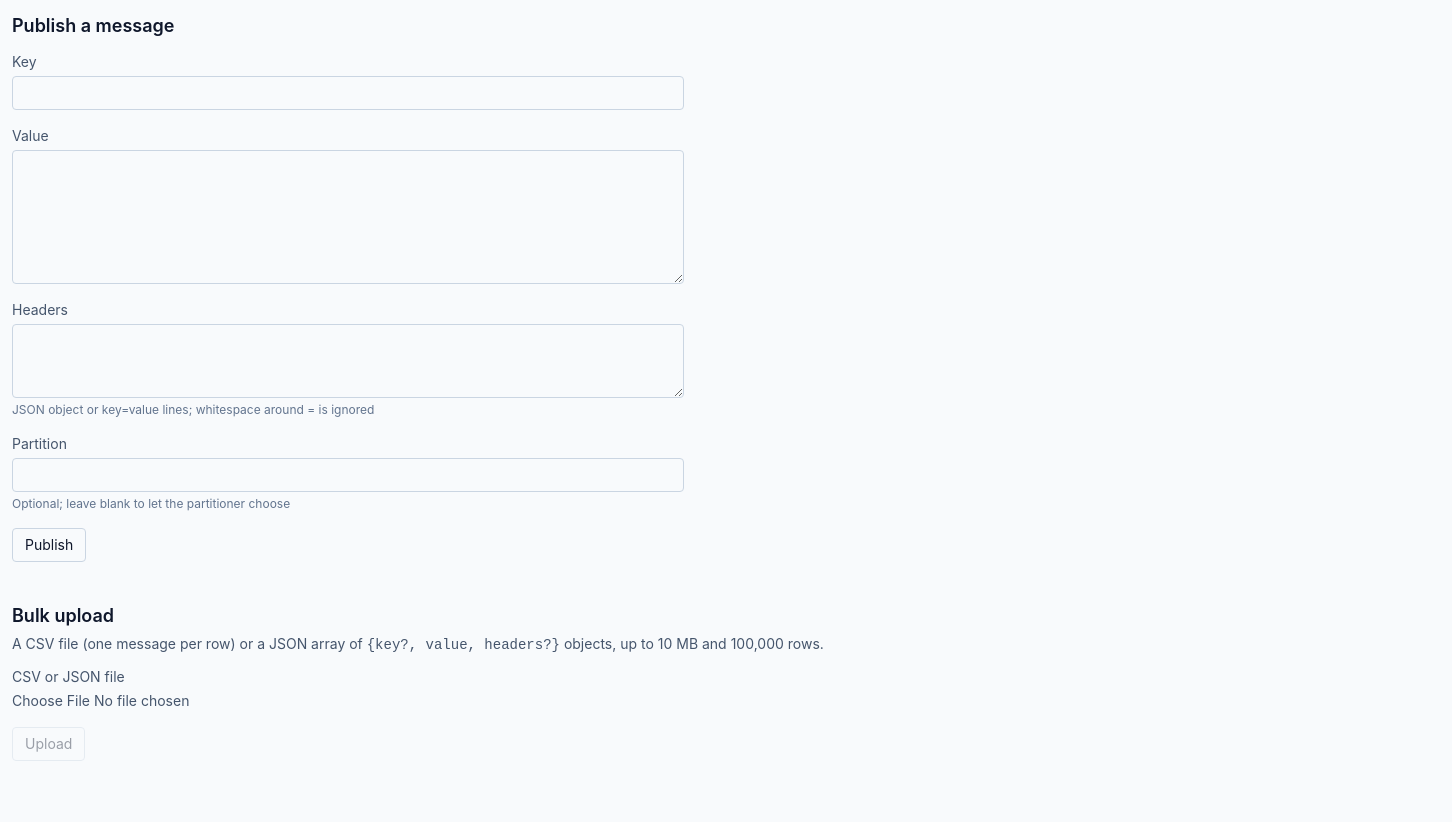
Test case: single publish › leaves out the key, headers and partition when they are blank
The width and height of the screenshot is (1452, 822).
Type "only a value" into the text box labelled "Value" at (348, 217), box [12, 150, 684, 284]
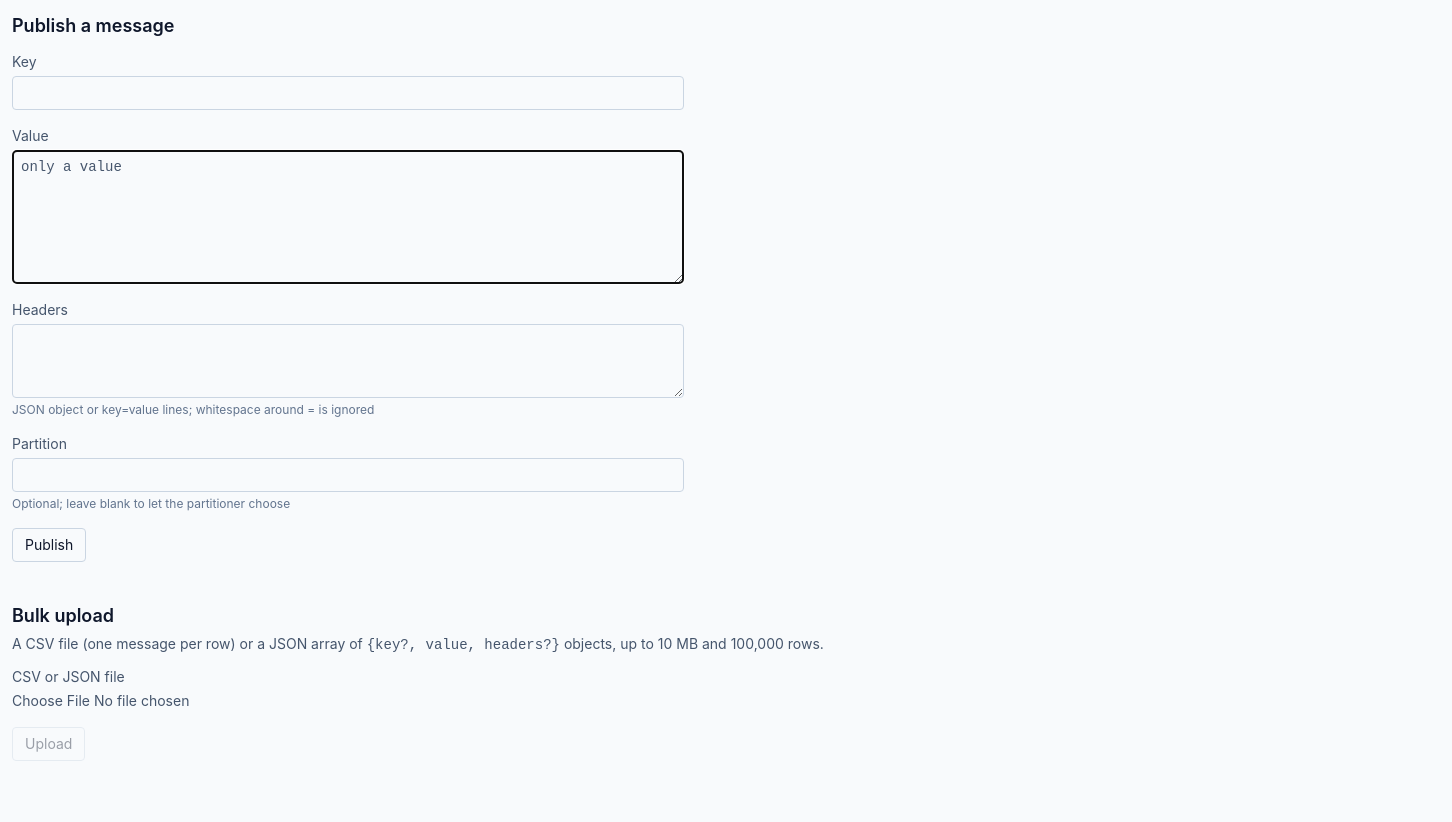
Click the button "Publish" at (49, 545), box [12, 528, 86, 562]
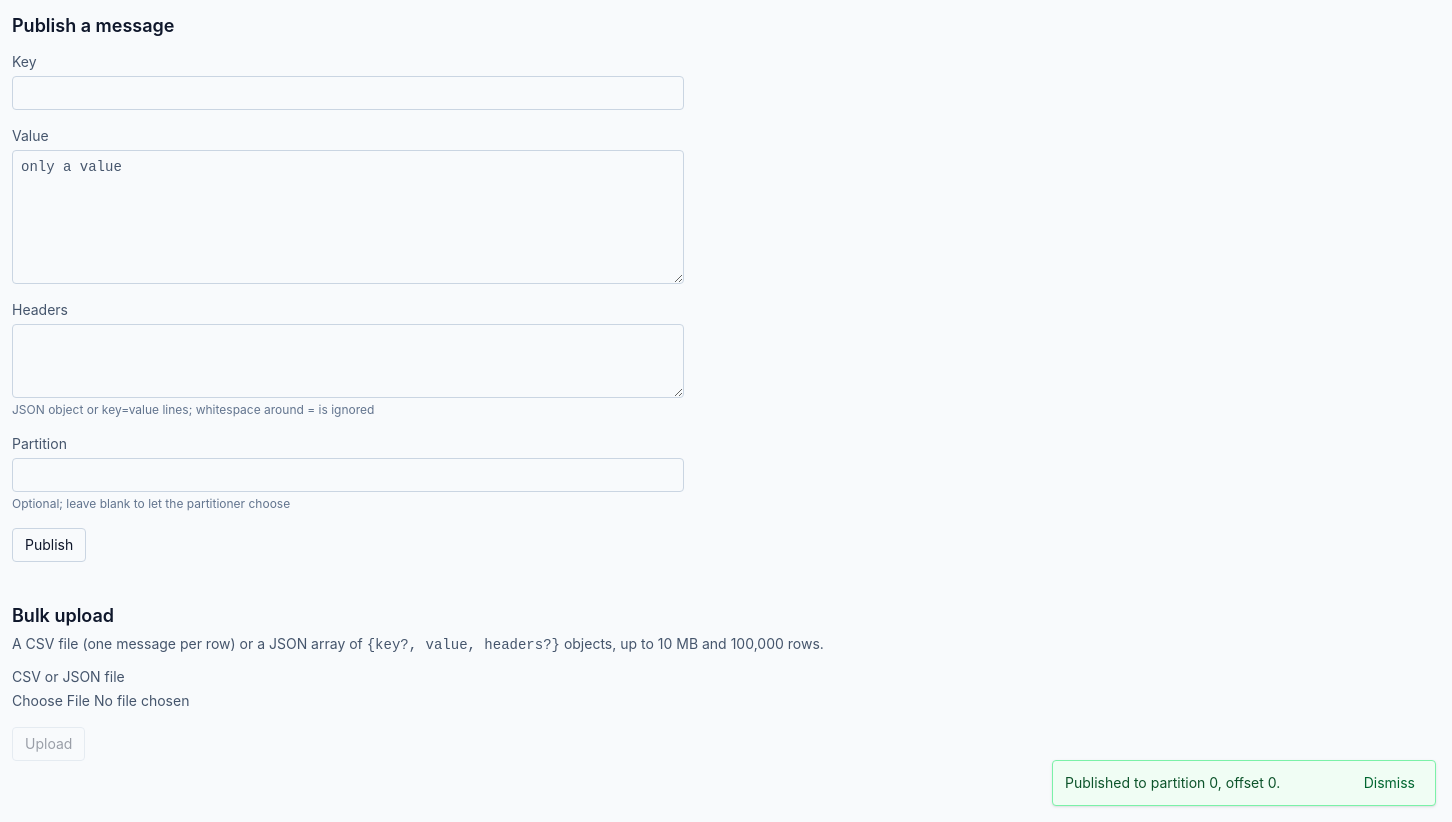
Now the message "Published to partition 0, offset 0. Dismiss" is shown, box [1052, 760, 1436, 806]
